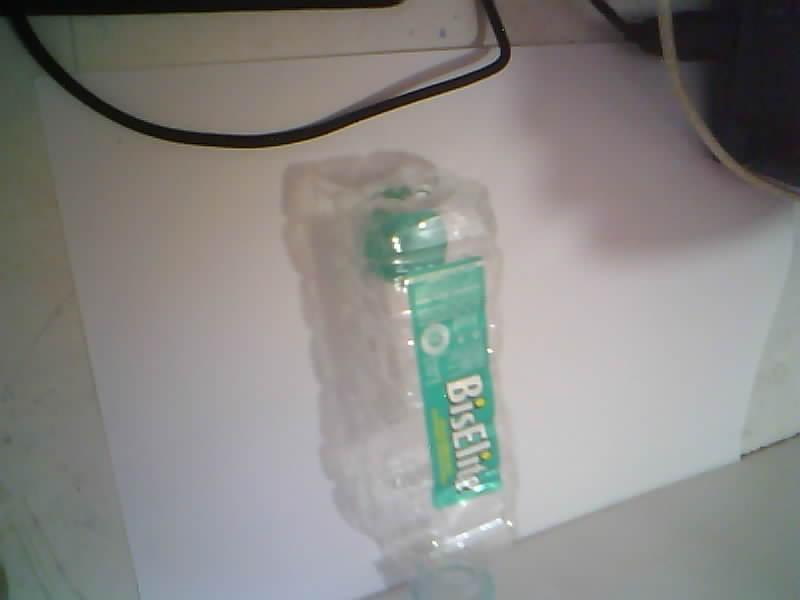non-biodegradable: (285, 157, 516, 599)
